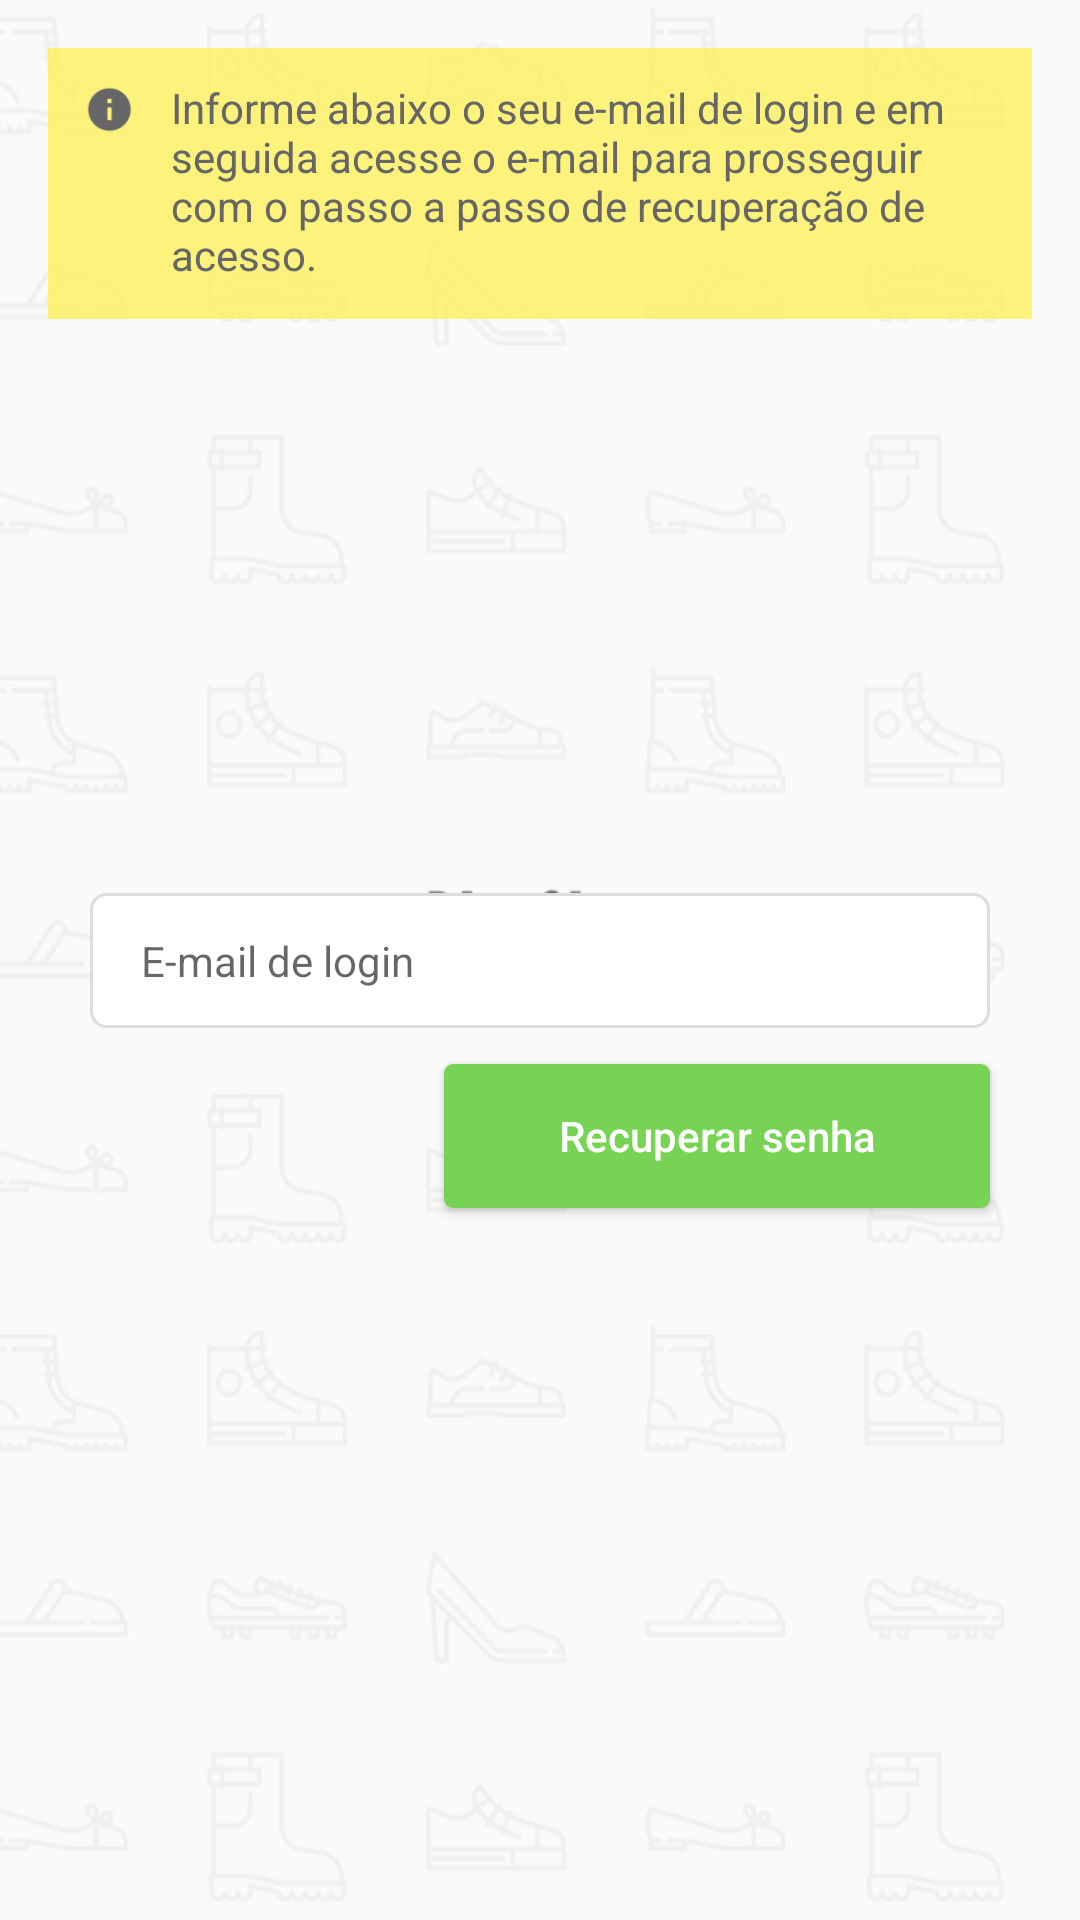

Named icons in this screenshot (1080*1920) and their centers, [x,y]:
Ícone de informação: [109,109]
